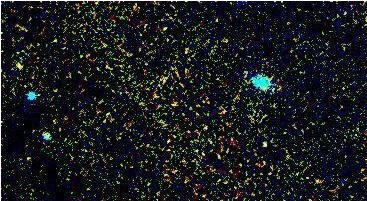star: (1, 53, 31, 83)
